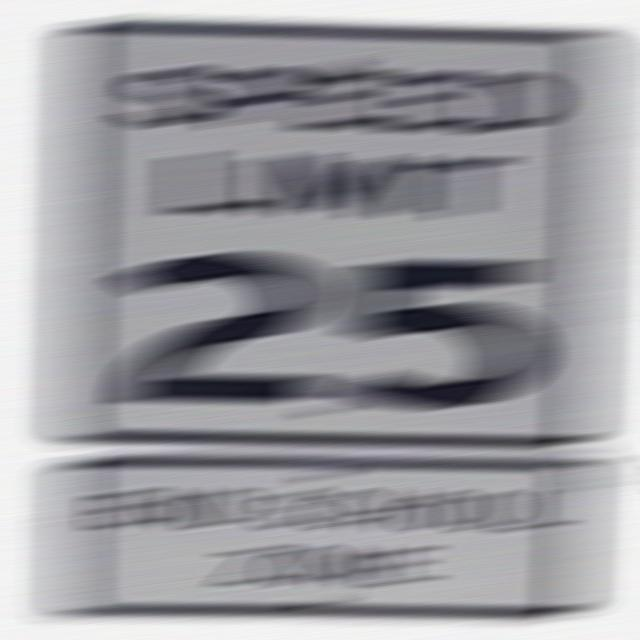speedLimit25: (60, 8, 602, 446)
